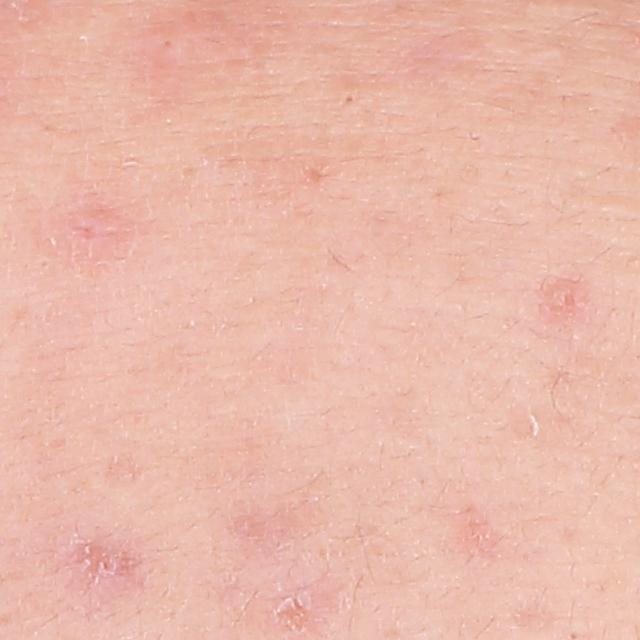comedo: (338, 91, 360, 108)
